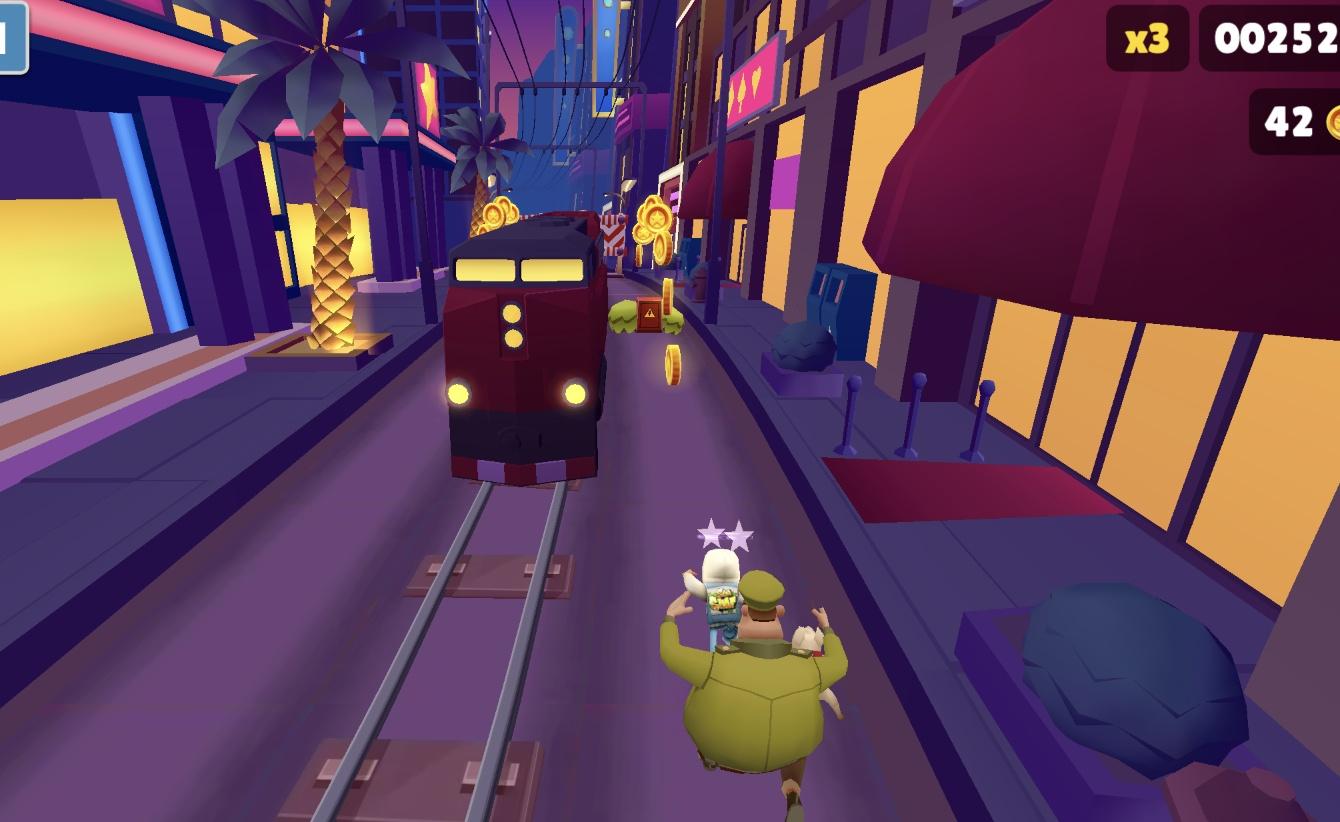bush: (606, 297, 639, 329), (662, 302, 685, 331)
overhead_barrier: (600, 209, 631, 272)
small_obstacle: (637, 294, 664, 329)
train: (442, 210, 604, 483)
